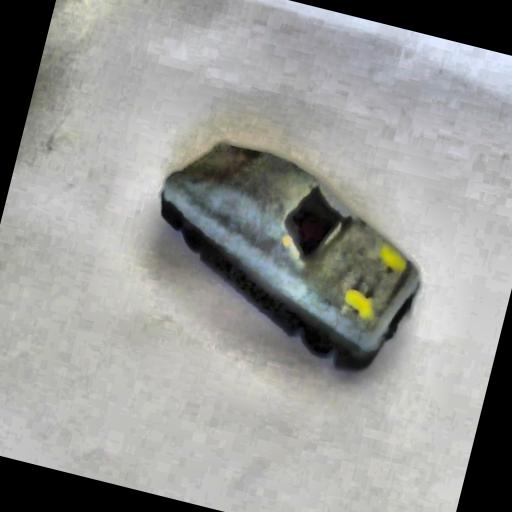normal_car: (116, 110, 455, 392)
